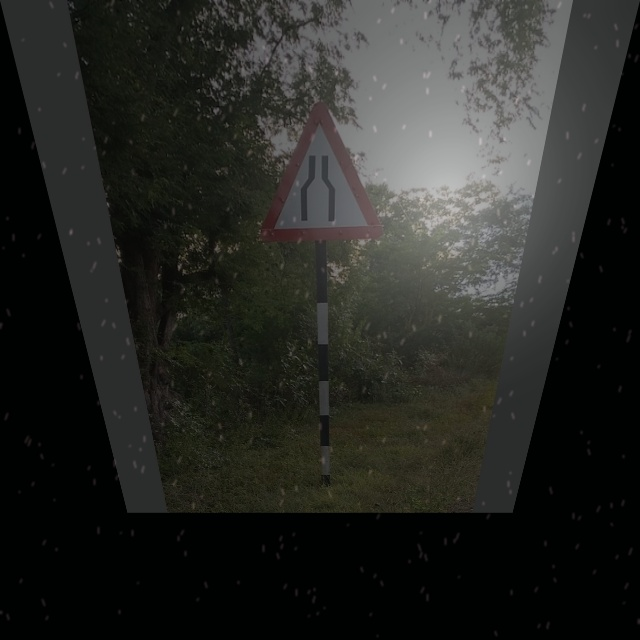Narrow_Road_Ahead: (246, 98, 393, 244)
